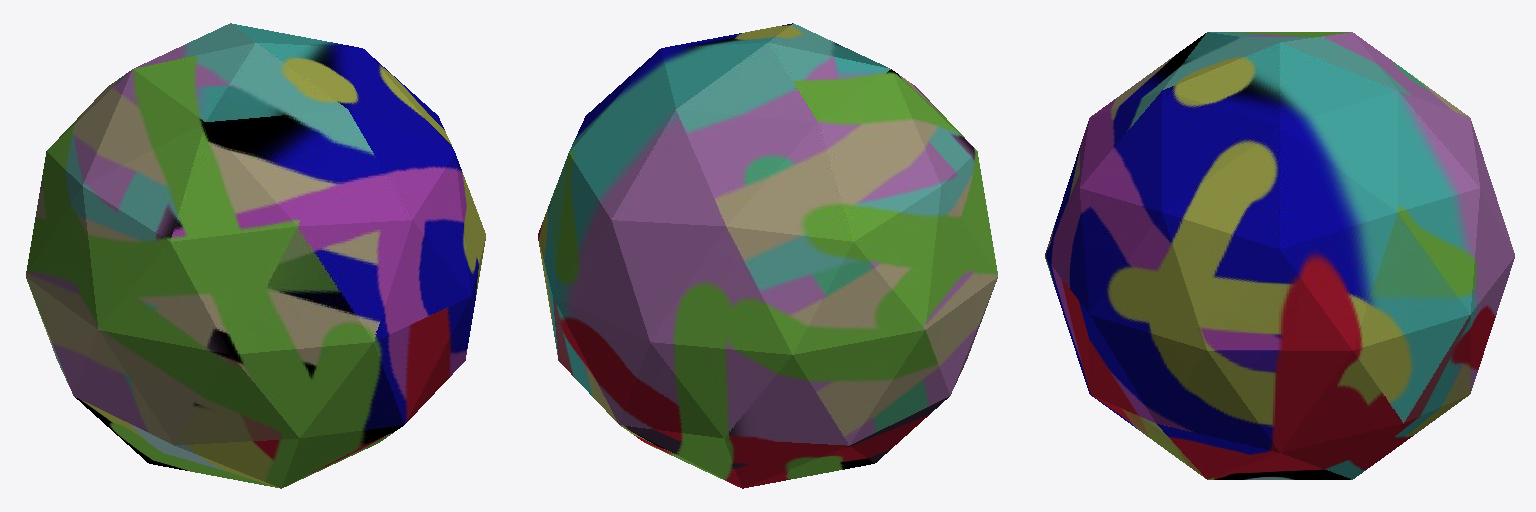
The picture shows the model from 3 angles: view 1: azimuth 30°, elevation 25°; view 2: azimuth 150°, elevation 25°; view 3: azimuth 270°, elevation 25°; orthographic projection.
Parts seen in each view (by area): view 1: Icosphere; view 2: Icosphere; view 3: Icosphere.
Boxes of the visible parts, x1=… form: Icosphere: x1=26, y1=23, x2=485, y2=488; Icosphere: x1=538, y1=23, x2=997, y2=488; Icosphere: x1=1045, y1=32, x2=1514, y2=479.
Size of the model in its own units: 1.9 by 2 by 2.
Materials: 1 (1 with a texture image).